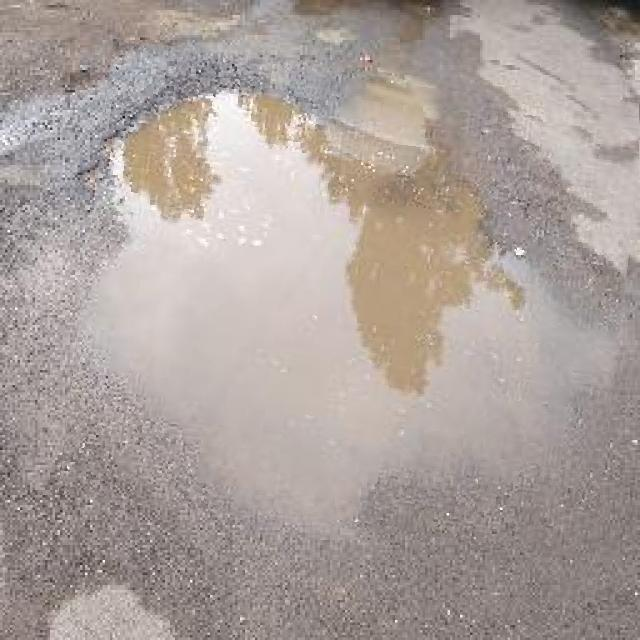puddle: (72, 56, 636, 544)
